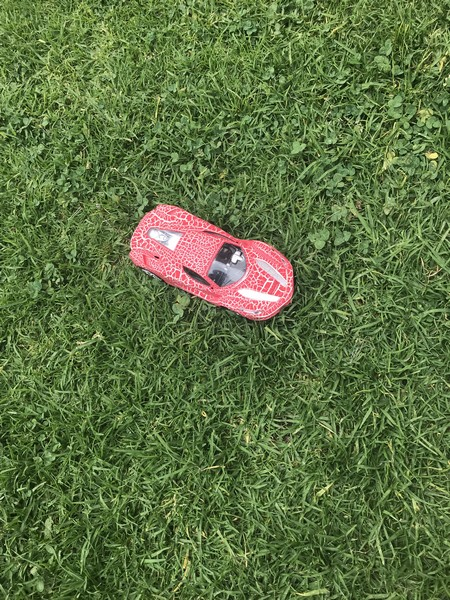RC: (126, 202, 297, 324)
